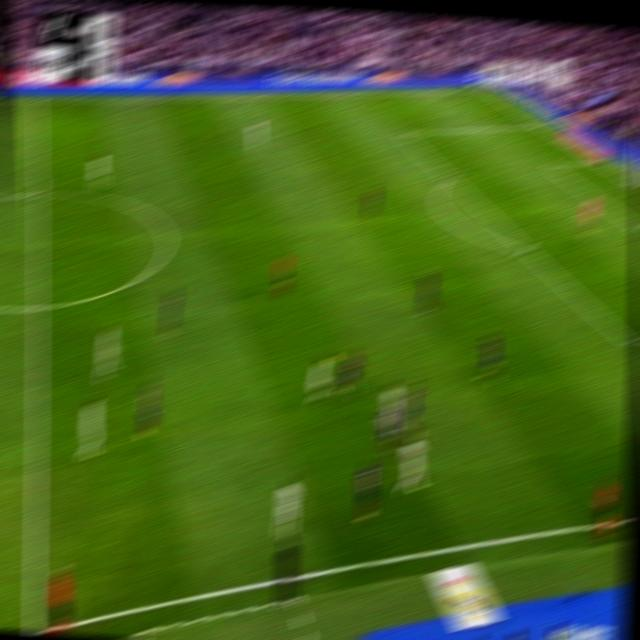bigarea_bottom_inner: (617, 330, 635, 350)
bigarea_top_inner: (394, 126, 408, 139)
bottom_arc_area_intersection: (516, 240, 533, 255)
corner: (478, 85, 491, 92)
halfcircle_bottom: (28, 296, 47, 319)
halfcircle_top: (27, 182, 48, 203)
midline_top_intersection: (29, 94, 44, 106)
smallarea_top_inner: (543, 161, 554, 169)
top_arc_area_intersection: (442, 171, 457, 183)
